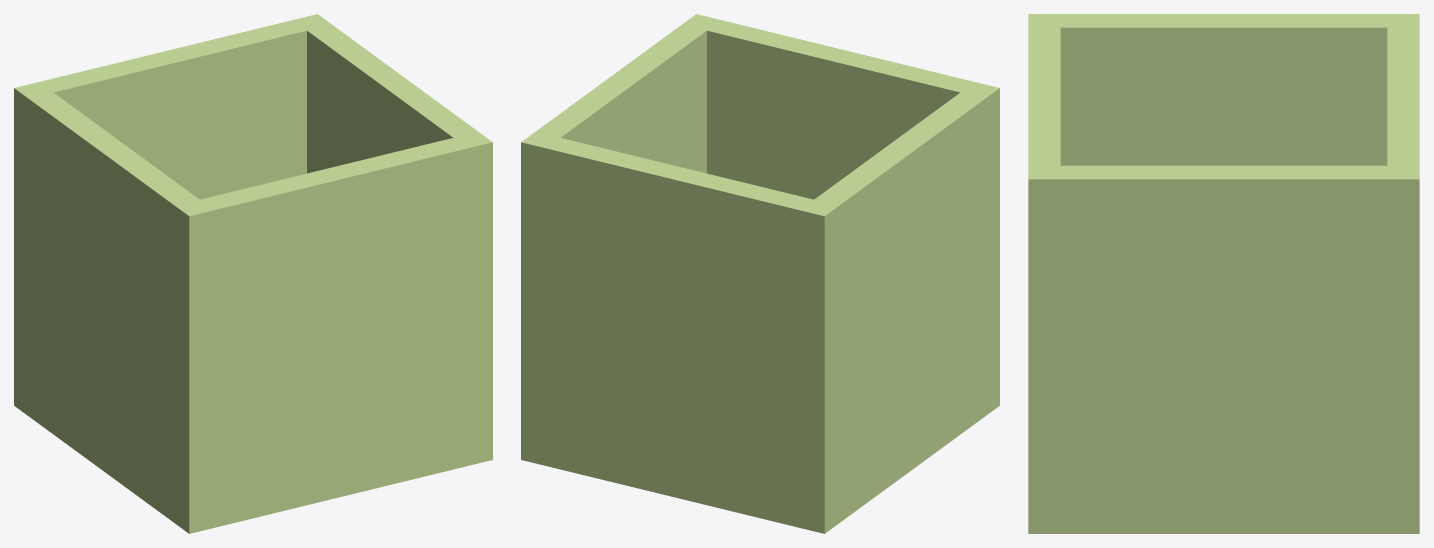
File: pudelko.fbx
3 views of the same model, side by side, from view 1: azimuth 30°, elevation 25°; view 2: azimuth 150°, elevation 25°; view 3: azimuth 270°, elevation 25° (orthographic). The views are drawn at different scales.
Parts seen in each view (by area): view 1: Cube.001; view 2: Cube.001; view 3: Cube.001.
Part boxes in pixels (x1=…): Cube.001: x1=14, y1=14, x2=492, y2=533; Cube.001: x1=521, y1=14, x2=999, y2=533; Cube.001: x1=1028, y1=14, x2=1419, y2=533.
Size of the model in its own units: 66.82 by 66.82 by 66.82.
